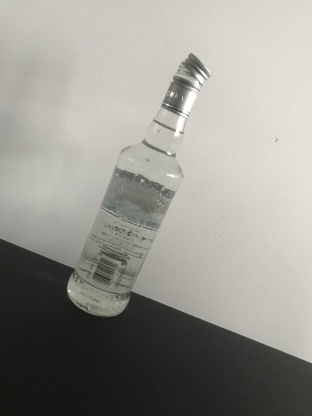nakretka: (159, 50, 212, 119)
